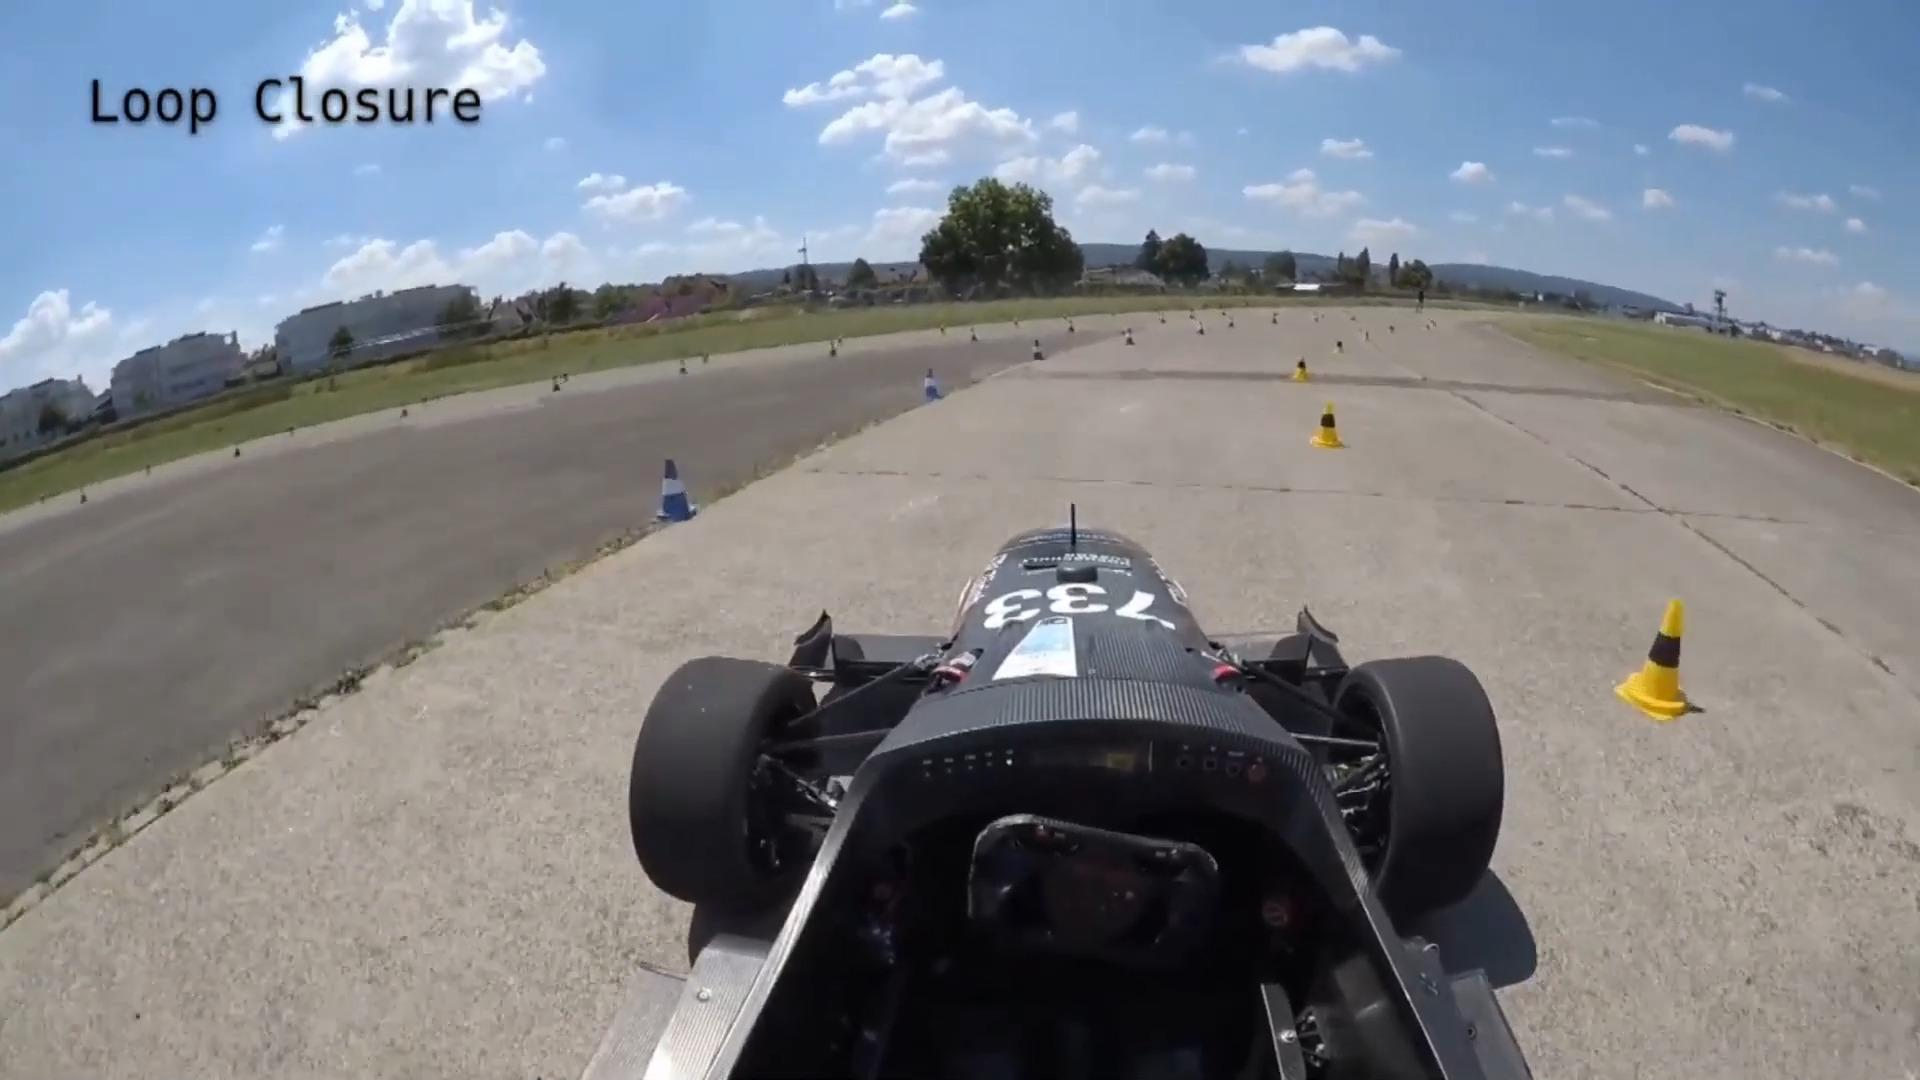blue_cone: (654, 455, 700, 525), (918, 365, 944, 402)
yellow_cone: (1613, 596, 1692, 724), (1309, 404, 1345, 450)
